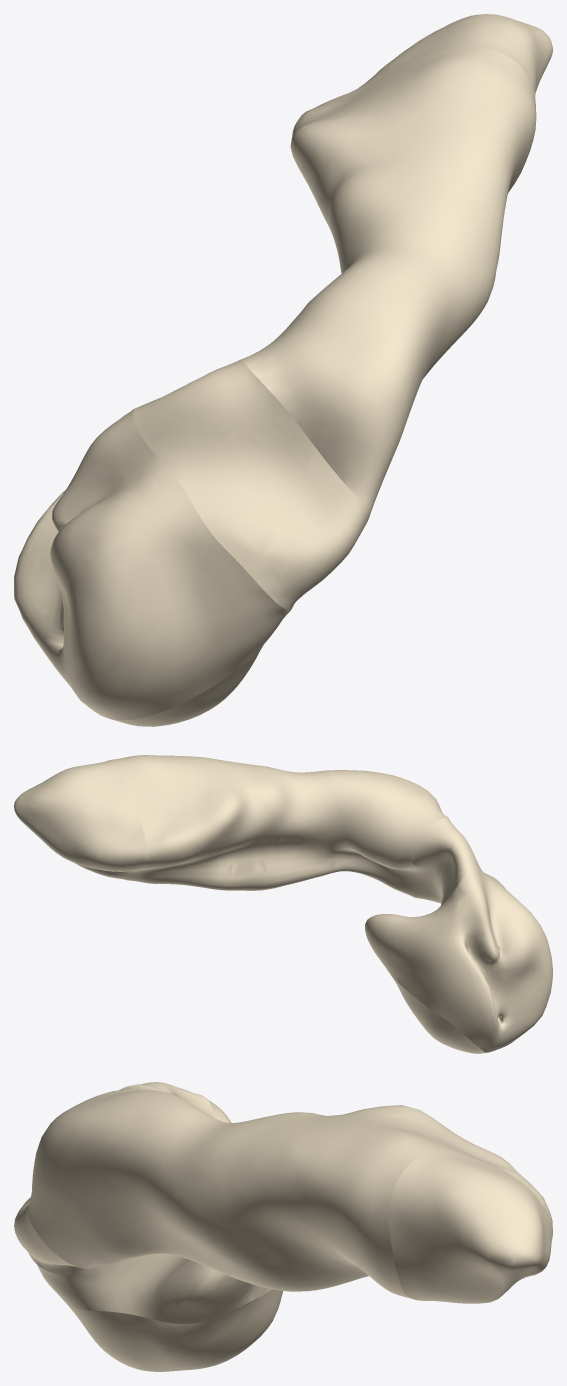
File: pancreas.glb
The picture shows the model from 3 angles, top to bottom: view 1: azimuth 30°, elevation 25°; view 2: azimuth 150°, elevation 25°; view 3: azimuth 270°, elevation 25°; orthographic projection. The views are drawn at different scales.
Parts seen in each view (by area): view 1: VH_M_body_of_pancreas; view 2: VH_M_body_of_pancreas; view 3: VH_M_body_of_pancreas.
Part boxes in pixels (x1,y1,x2,y2): VH_M_body_of_pancreas: (14,14,552,726); VH_M_body_of_pancreas: (14,755,552,1053); VH_M_body_of_pancreas: (14,1082,552,1371).
Bounding box in the file's own units: 0.1115 × 0.072 × 0.0836.
